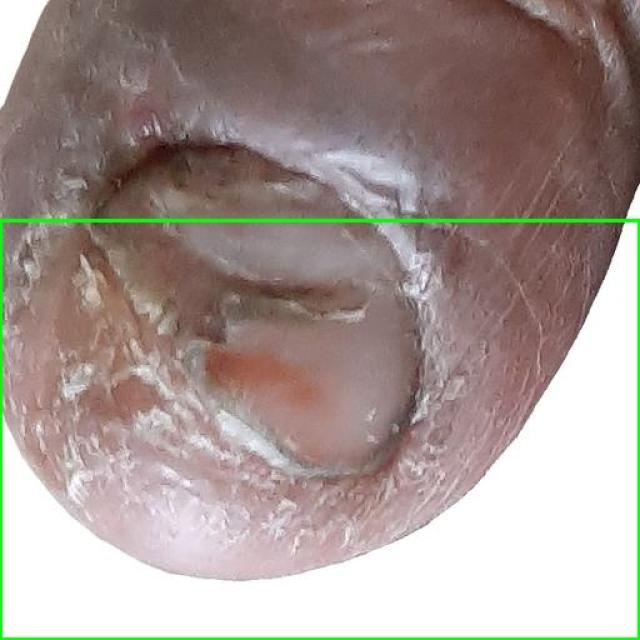Contact Dermatitis: (0, 220, 639, 639)
